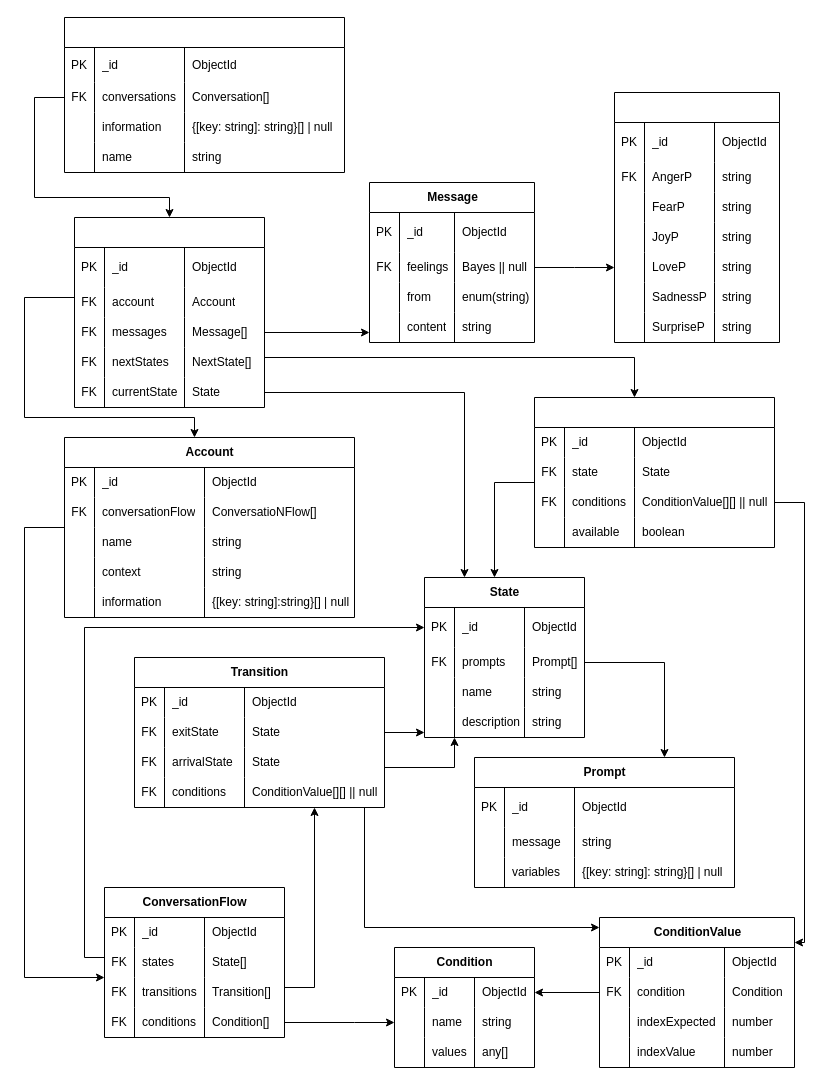
Image size: 830x1085. Some labels were removed from this diagram. Here are the shapes that lost their labels. From the top down, the box of each, then its label:
(64, 16, 344, 172): User
(614, 92, 780, 342): Bayes
(74, 216, 264, 408): Conversation
(534, 396, 774, 548): NextState
